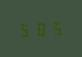eight: (34, 20, 48, 36)
five: (18, 20, 32, 37), (49, 19, 63, 36)
